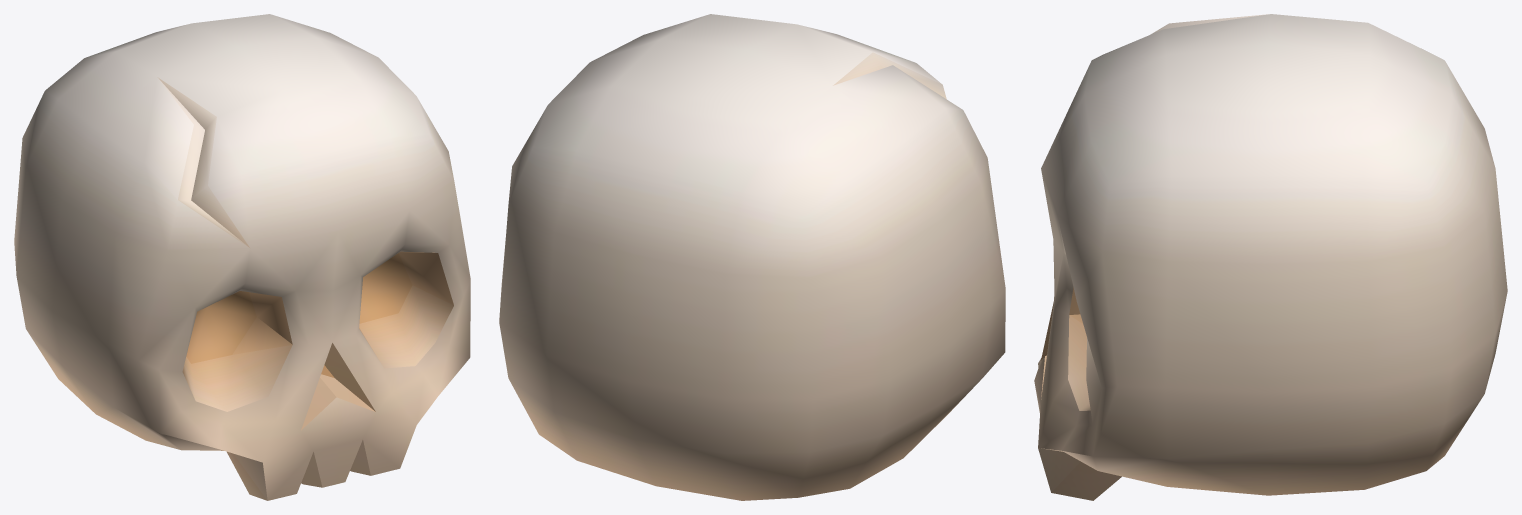
The model's file is skull.glb.
3 views of the same model, side by side, from view 1: azimuth 30°, elevation 25°; view 2: azimuth 150°, elevation 25°; view 3: azimuth 270°, elevation 25° (orthographic). The views are drawn at different scales.
Visible parts, largest first — view 1: skull; view 2: skull; view 3: skull.
Part boxes in pixels (left/top/right/bottom): skull: left=14, top=14, right=470, bottom=500; skull: left=499, top=14, right=1005, bottom=500; skull: left=1034, top=14, right=1507, bottom=500.
Bounding box in the file's own units: 0.9176 × 0.8982 × 0.9072.
Materials: 1 (1 with a texture image).
